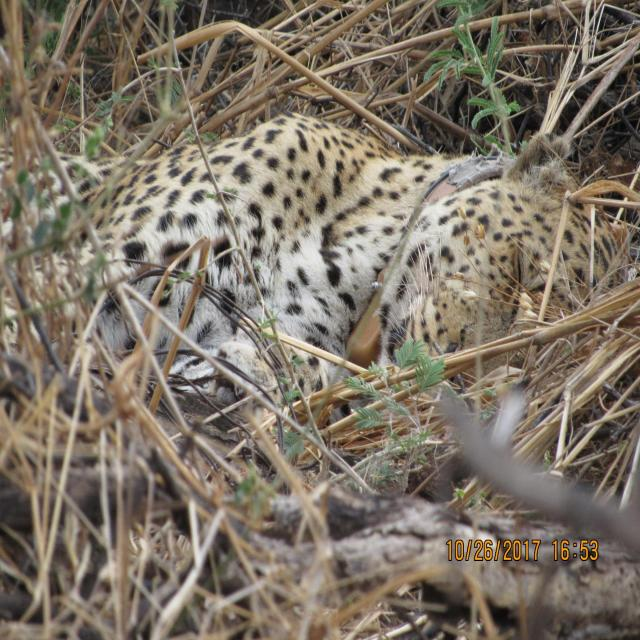Leopard: (13, 105, 633, 416)
